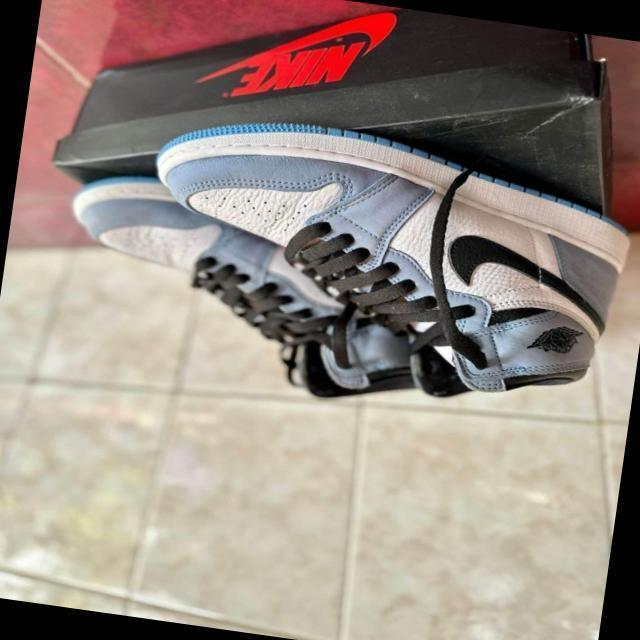nike fake jordan 1: (126, 99, 640, 424)
